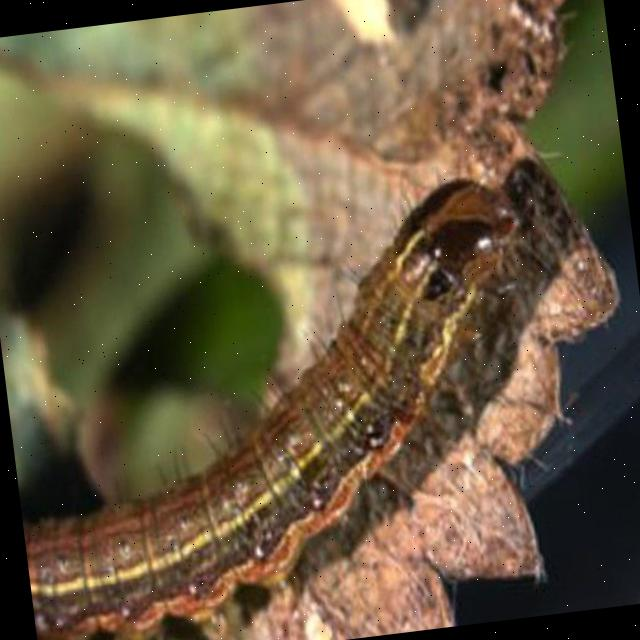worm: (1, 168, 568, 640)
